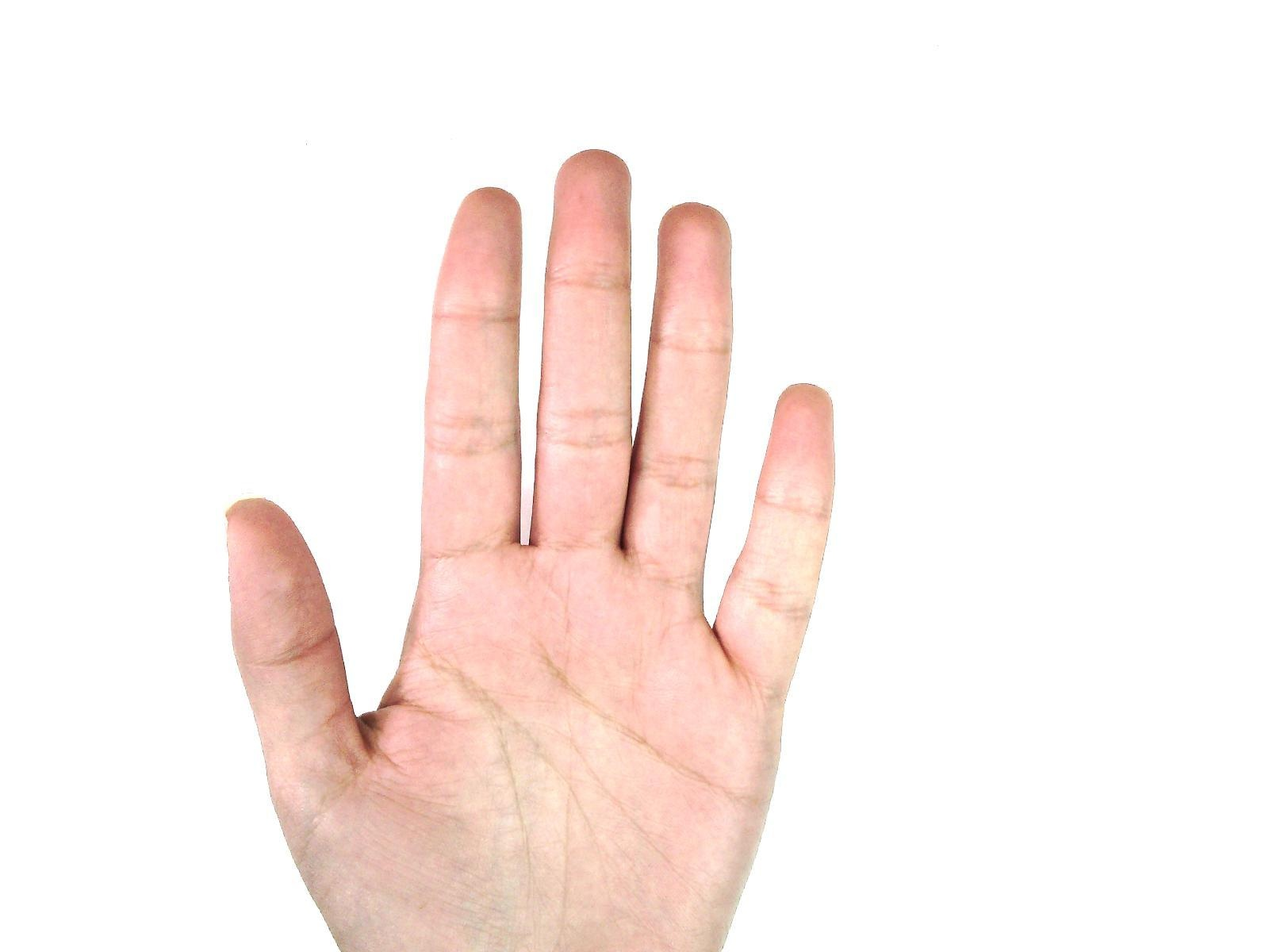open_palm: (223, 148, 839, 951)
